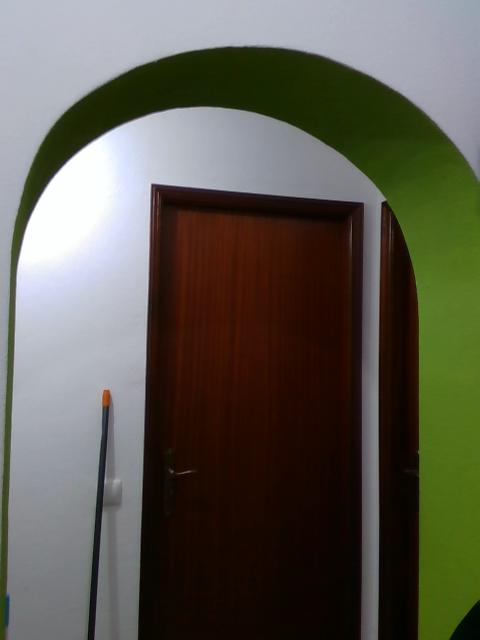door: (160, 199, 349, 636)
